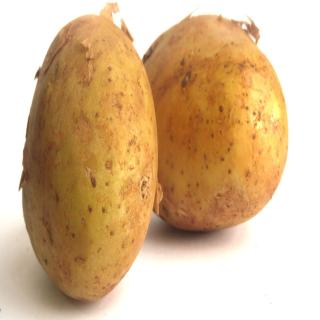Potato: (24, 17, 159, 297)
